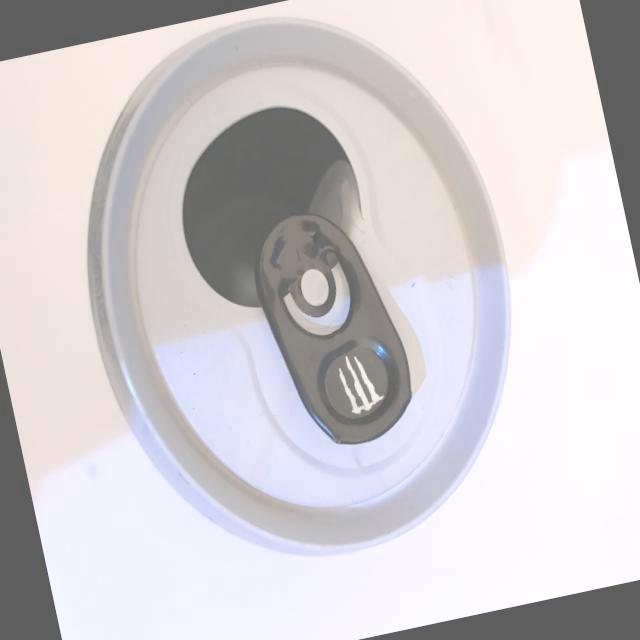metal: (24, 0, 580, 624)
